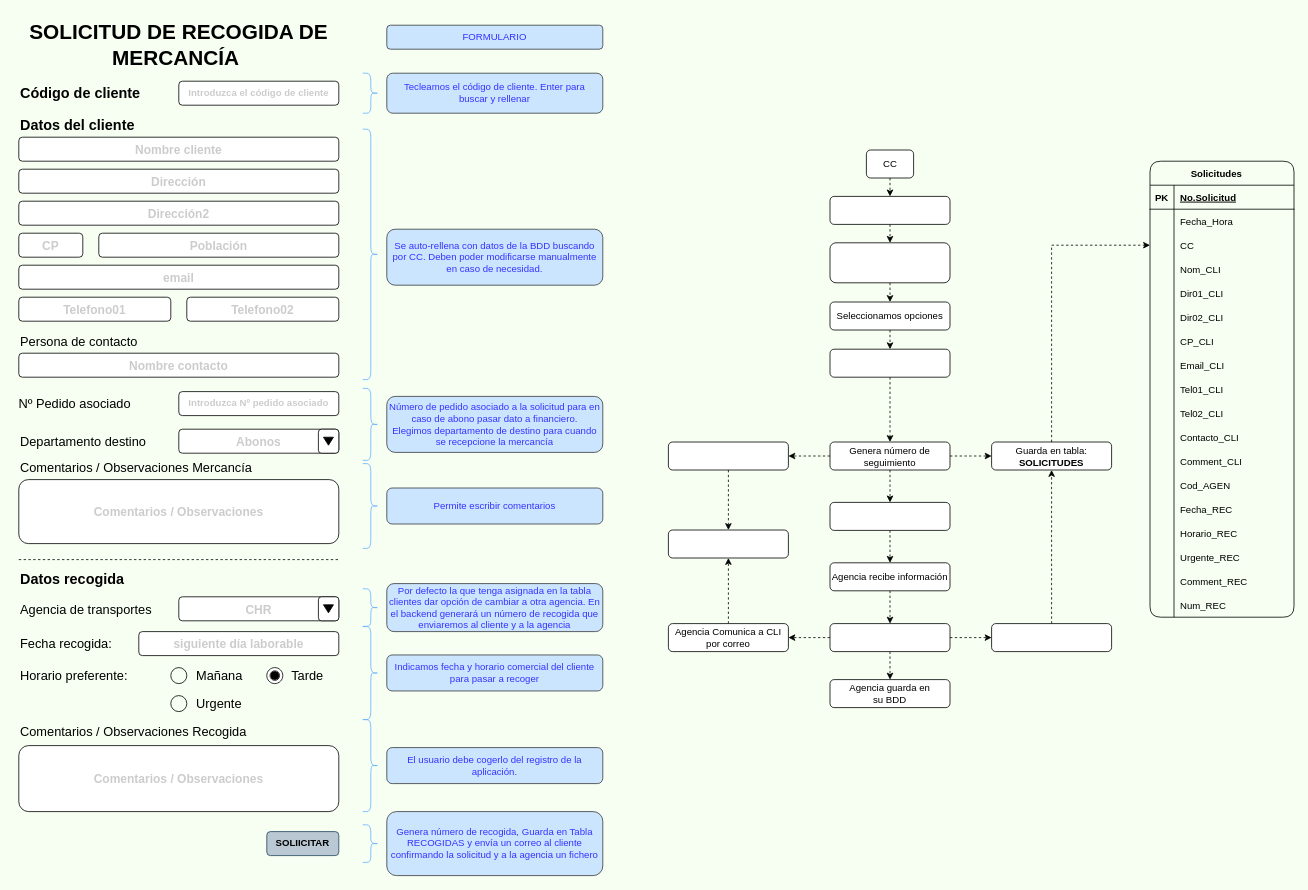
The diagram is 1308 pixels wide and 890 high, and some of its shapes have lost their labels. Each missing label, with the centre of its shape:
"Agencia comunica Nº RECOGIDA" belongs at point 1051,637.
"Agencia genera Nº RECOGIDA" belongs at point 889,637.
"Campos se auto-rellenan" belongs at point 889,210.
"CLIENTE" belongs at point 728,543.
"Envia correo a CLIENTE" belongs at point 728,455.
"Envía información a la AGENCIA" belongs at point 889,516.
"Modificamos campos Añadimos comentarios" belongs at point 889,262.
"Pulsamos boton SOLICITAR" belongs at point 889,362.
